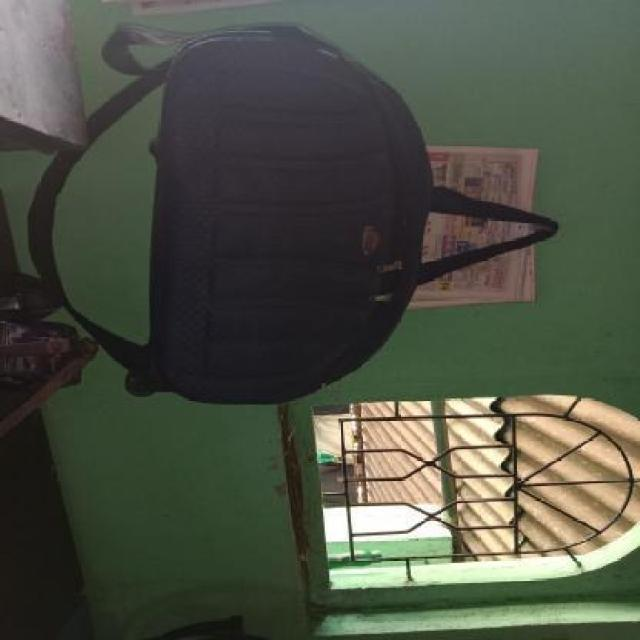backpack: (104, 9, 442, 414)
